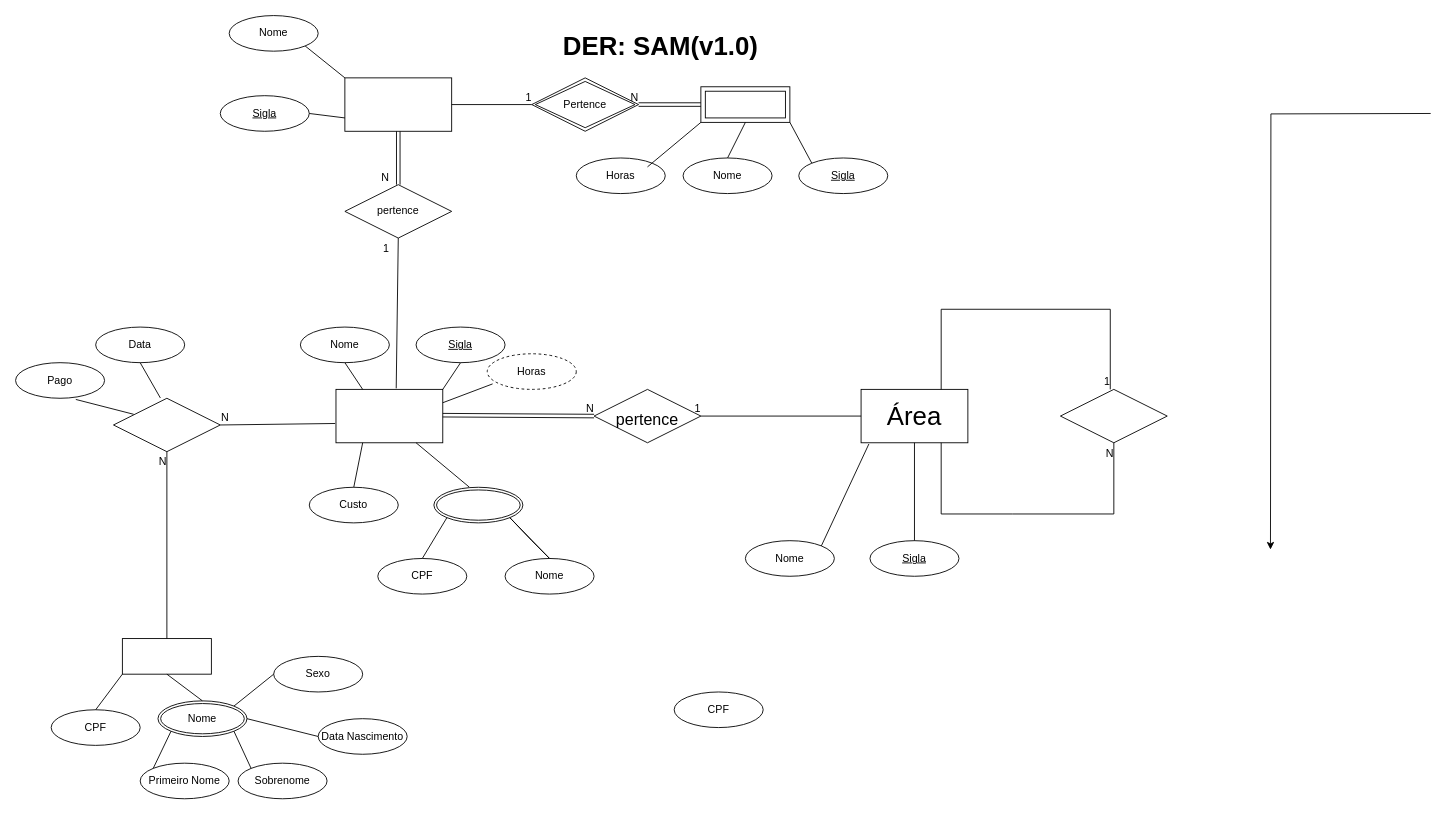
Some shapes in this 1453 by 814 pixel diagram are drawn without their labels. The centre of each missing label's shape, as x and y in pixels:
"Aluno" goes at (166,656).
"Curso" goes at (389,415).
"integra" goes at (1113,415).
"Matricula" goes at (166,424).
"Modulo" goes at (398,104).
"Professores" goes at (478,504).
"Topico" goes at (745,104).
